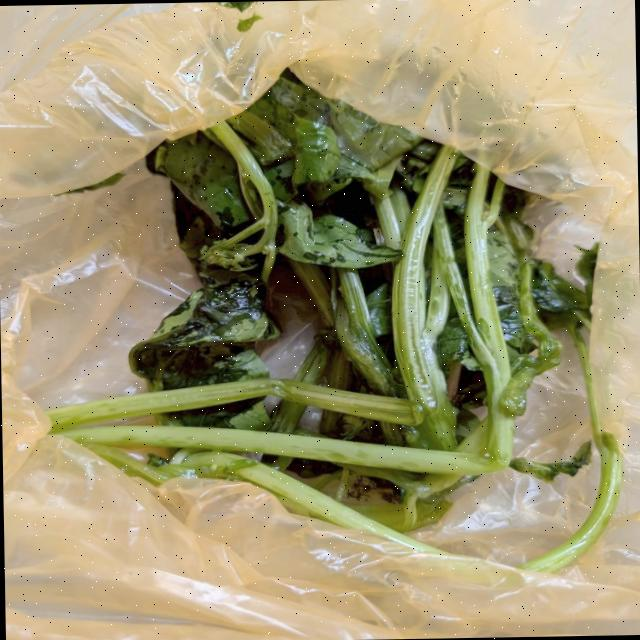rotten spinach: (71, 82, 583, 514), (100, 136, 554, 442), (190, 272, 570, 578), (51, 207, 400, 470)
